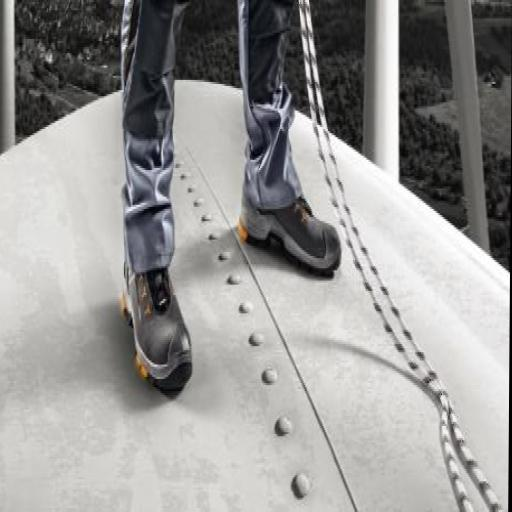safety_boots: (108, 269, 213, 400), (232, 175, 346, 282)
